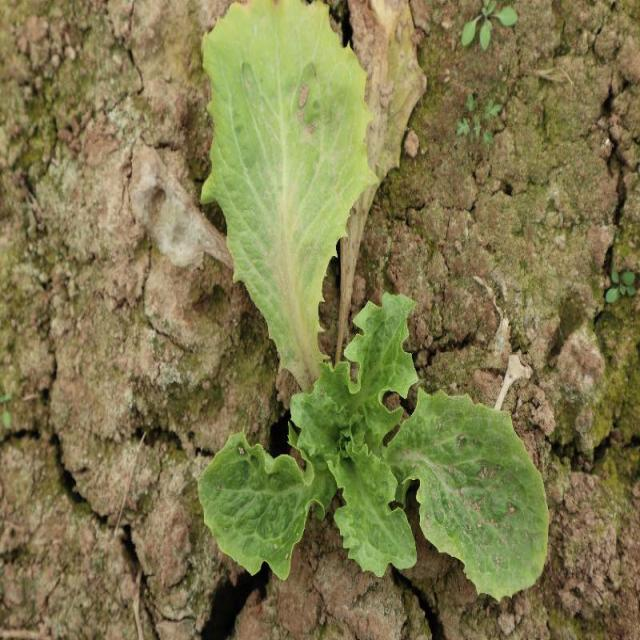crop: (198, 290, 551, 605)
